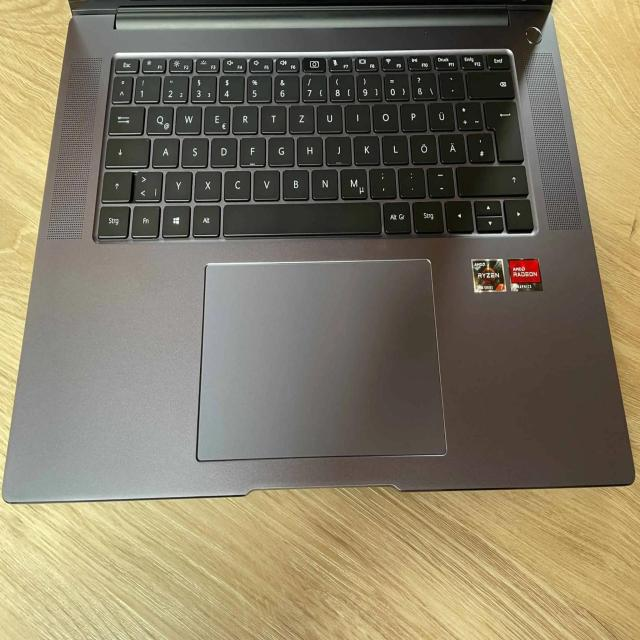0: (383, 71, 409, 100)
1: (133, 74, 159, 102)
2: (162, 73, 188, 101)
3: (190, 73, 216, 101)
4: (218, 73, 244, 101)
5: (246, 74, 271, 102)
6: (273, 72, 298, 101)
7: (301, 72, 327, 100)
8: (328, 72, 353, 101)
9: (356, 71, 381, 100)
a: (151, 136, 179, 166)
accent: (438, 69, 464, 98)
ae: (439, 131, 466, 162)
alt-left: (191, 203, 220, 236)
altgr-right: (382, 199, 411, 233)
b: (281, 167, 309, 198)
c: (223, 168, 250, 199)
caret: (111, 74, 132, 101)
comma: (369, 165, 396, 197)
d: (210, 135, 237, 166)
del: (465, 69, 513, 98)
e: (203, 104, 230, 133)
enter: (483, 99, 523, 160)
f: (239, 135, 265, 165)
g: (267, 135, 294, 165)
h: (296, 134, 322, 164)
hash: (466, 130, 494, 162)
i: (344, 102, 370, 130)
j: (325, 134, 351, 165)
k: (353, 133, 379, 164)
keyboard: (87, 48, 544, 246)
l: (381, 132, 408, 163)
less: (133, 168, 162, 200)
m: (339, 166, 368, 198)
minus: (426, 165, 454, 196)
n: (310, 167, 338, 198)
o: (372, 102, 398, 131)
oe: (409, 132, 437, 163)
p: (400, 101, 425, 130)
plus: (455, 99, 482, 129)
point: (397, 165, 425, 196)
q: (146, 104, 174, 134)
r: (232, 104, 258, 133)
s: (180, 136, 208, 166)
shift-left: (100, 169, 131, 200)
shift-lock: (104, 135, 149, 166)
shift-right: (454, 163, 527, 195)
space: (221, 201, 381, 235)
ss: (410, 70, 436, 99)
strg-left: (96, 203, 130, 237)
strg-right: (412, 199, 444, 232)
t: (260, 103, 286, 132)
tab: (108, 104, 144, 133)
u: (316, 102, 342, 132)
ue: (428, 100, 455, 130)
v: (252, 168, 280, 199)
w: (175, 103, 202, 133)
x: (194, 169, 222, 200)
y: (164, 169, 192, 200)
z: (288, 103, 314, 132)
